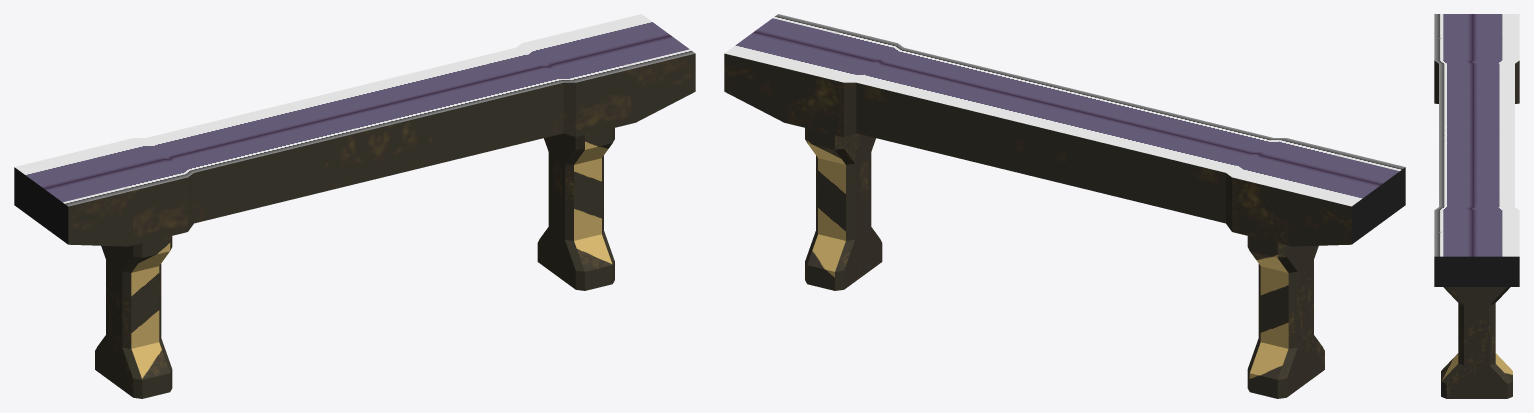
The model's file is Platform_Support_2.glb.
3 views of the same model, side by side, from view 1: azimuth 30°, elevation 25°; view 2: azimuth 150°, elevation 25°; view 3: azimuth 270°, elevation 25° (orthographic). The views are drawn at different scales.
Visible parts, largest first — view 1: Cube.016; view 2: Cube.016; view 3: Cube.016.
Part boxes in pixels (<box>): Cube.016: <box>14,14,695,398</box>; Cube.016: <box>724,14,1405,398</box>; Cube.016: <box>1434,14,1519,398</box>.
Bounding box in the file's own units: 0.8561 × 0.2801 × 0.1276.
1 material, 1 textured.
